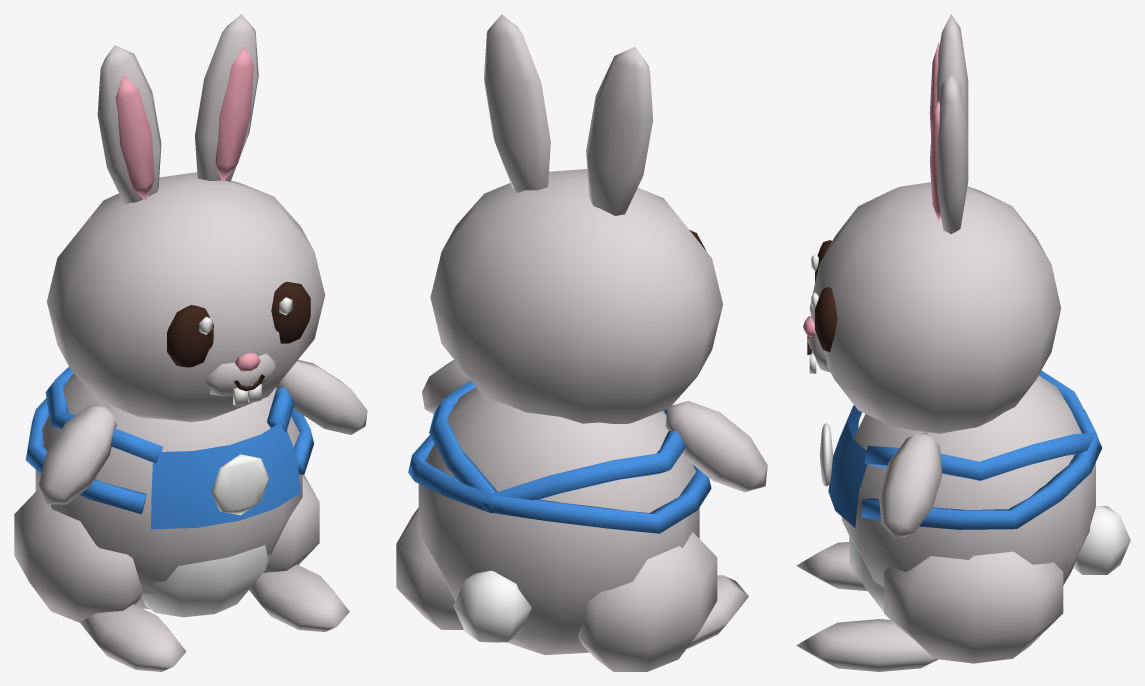
The model's file is compagnon_lapin.fbx.
3 renders of one model, left to right at view 1: azimuth 30°, elevation 25°; view 2: azimuth 150°, elevation 25°; view 3: azimuth 270°, elevation 25°, orthographic. The views are drawn at different scales.
Visible parts, largest first — view 1: compagnon_lapin_Blanc, compagnon_lapin_Dossard, compagnon_lapin_Ventre, compagnon_lapin_Rose, compagnon_lapin_Yeux; view 2: compagnon_lapin_Blanc, compagnon_lapin_Dossard, compagnon_lapin_Ventre; view 3: compagnon_lapin_Blanc, compagnon_lapin_Dossard, compagnon_lapin_Ventre, compagnon_lapin_Rose, compagnon_lapin_Yeux.
Part boxes in pixels (x1,y1,x2,y2): compagnon_lapin_Blanc: (14,14,367,671); compagnon_lapin_Dossard: (25,367,313,529); compagnon_lapin_Ventre: (140,297,292,617); compagnon_lapin_Rose: (116,45,260,371); compagnon_lapin_Yeux: (167,281,310,391); compagnon_lapin_Blanc: (396,14,767,671); compagnon_lapin_Dossard: (408,380,711,533); compagnon_lapin_Ventre: (453,570,531,642); compagnon_lapin_Blanc: (796,14,1095,671); compagnon_lapin_Dossard: (828,370,1102,529); compagnon_lapin_Ventre: (809,253,1130,611); compagnon_lapin_Rose: (803,42,940,336); compagnon_lapin_Yeux: (807,240,837,354).
Bounding box in the file's own units: 1.66 × 2.85 × 1.49.
